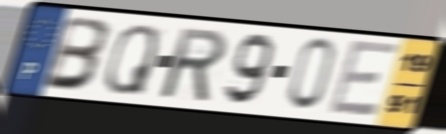0: (284, 36, 338, 115)
9: (221, 32, 278, 107)
B: (40, 14, 113, 93)
E: (325, 37, 403, 119)
Q: (102, 22, 161, 98)
R: (160, 25, 230, 105)
